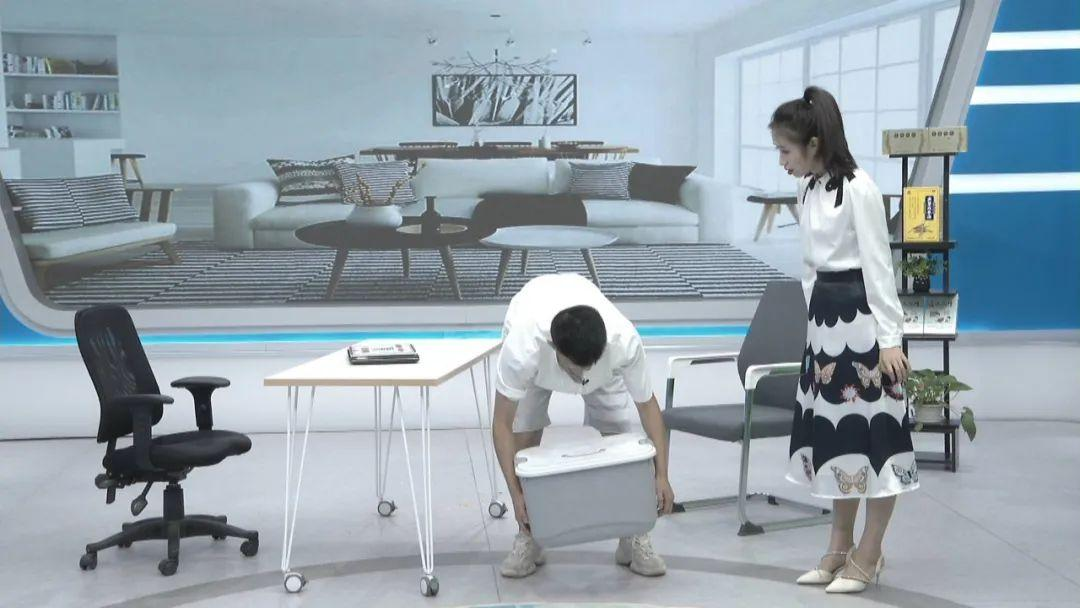bending: (481, 260, 685, 584)
up: (744, 87, 931, 592)
